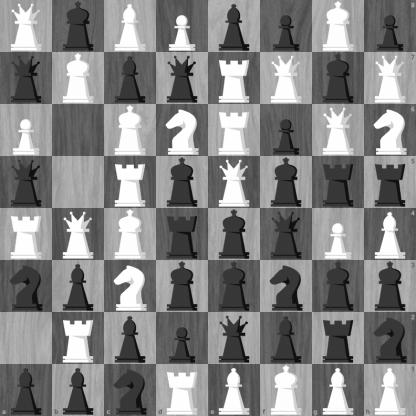B: (312, 364, 364, 416), (364, 364, 416, 416), (209, 364, 260, 416), (364, 209, 416, 260), (105, 1, 156, 52)
K: (260, 364, 312, 416), (53, 53, 104, 104), (105, 105, 156, 156), (105, 209, 156, 260), (313, 1, 364, 52)
N: (364, 104, 416, 156), (105, 261, 156, 312), (157, 105, 208, 156)
P: (1, 105, 52, 156), (157, 1, 208, 52), (313, 209, 364, 260)
Q: (364, 52, 416, 104), (1, 1, 52, 52), (53, 209, 104, 260), (209, 157, 260, 208), (261, 53, 312, 104), (313, 105, 364, 156)
R: (156, 364, 209, 416), (1, 209, 52, 260), (53, 313, 104, 364), (105, 157, 156, 208), (209, 53, 260, 104), (209, 105, 260, 156)
b: (0, 364, 52, 416), (52, 364, 104, 416), (53, 261, 104, 312), (105, 53, 156, 104), (105, 313, 156, 364), (209, 1, 260, 52), (261, 313, 312, 364)
board: (0, 0, 415, 415)
k: (364, 260, 416, 312), (53, 1, 104, 52), (157, 157, 208, 208), (157, 261, 208, 312), (209, 209, 260, 260), (209, 261, 260, 312), (261, 157, 312, 208), (313, 53, 364, 104), (313, 261, 364, 312)
n: (104, 364, 156, 416), (364, 312, 416, 364), (1, 261, 52, 312), (261, 261, 312, 312)
p: (364, 0, 416, 52), (157, 313, 208, 364), (261, 1, 312, 52), (261, 105, 312, 156)
q: (1, 53, 52, 104), (1, 157, 52, 208), (157, 53, 208, 104), (209, 313, 260, 364), (261, 209, 312, 260)
r: (364, 156, 416, 209), (157, 209, 208, 260), (313, 157, 364, 208), (313, 313, 364, 364)
